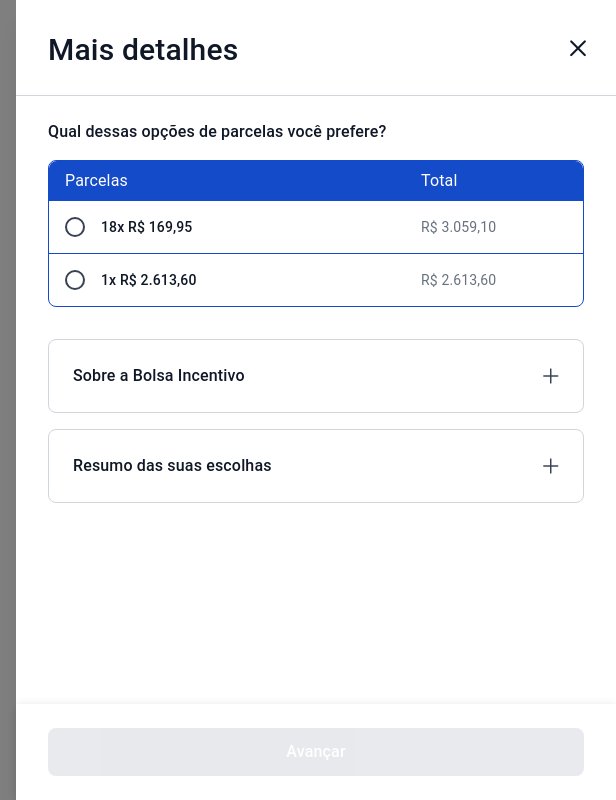
Test: OfferDetailsModal › Verifica seo botão "Avançar" é habilitado após selecionar um plano
// Seleciona um plano
Click the text "18x R$ 169,95": [147, 227] box [101,217,192,237]
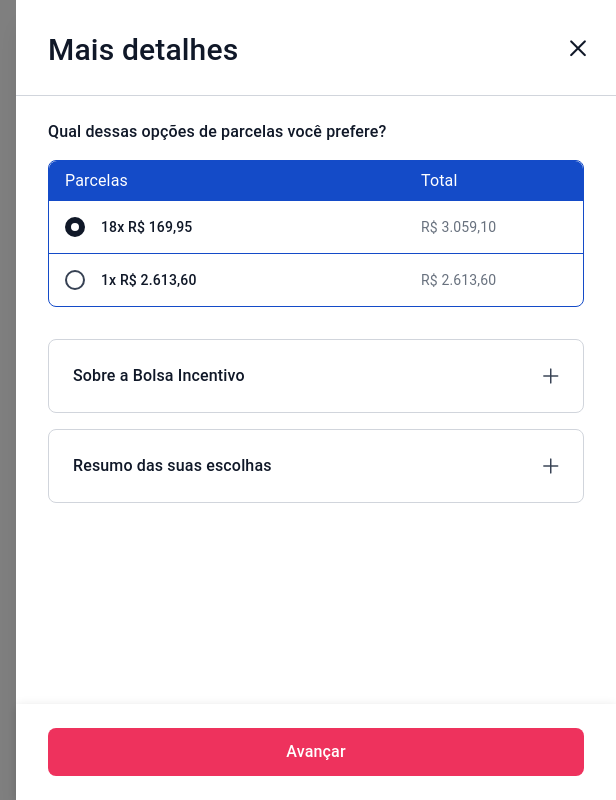
Expected: the button "Avançar" is enabled, [48,728,584,776]
